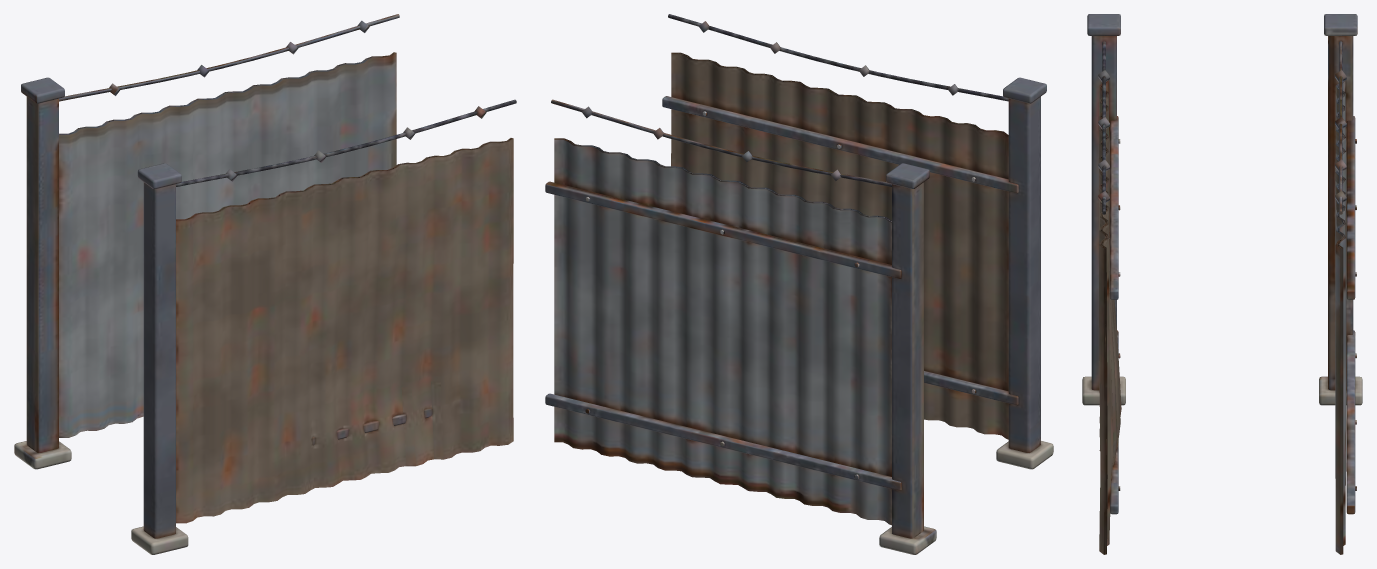
Rendered from fence.glb.
3 renders of one model, left to right at view 1: azimuth 30°, elevation 25°; view 2: azimuth 150°, elevation 25°; view 3: azimuth 270°, elevation 25°, orthographic.
Parts seen in each view (by area): view 1: b, a; view 2: a, b; view 3: a, b.
Part boxes in pixels (x1,y1,x2,y2): b: [131, 99, 516, 554]; a: [14, 14, 399, 469]; a: [545, 99, 936, 554]; b: [662, 14, 1053, 469]; a: [1319, 14, 1362, 554]; b: [1082, 14, 1125, 554].
Bounding box in the file's own units: 2.59 × 2.46 × 1.66.
1 material, 1 textured.
